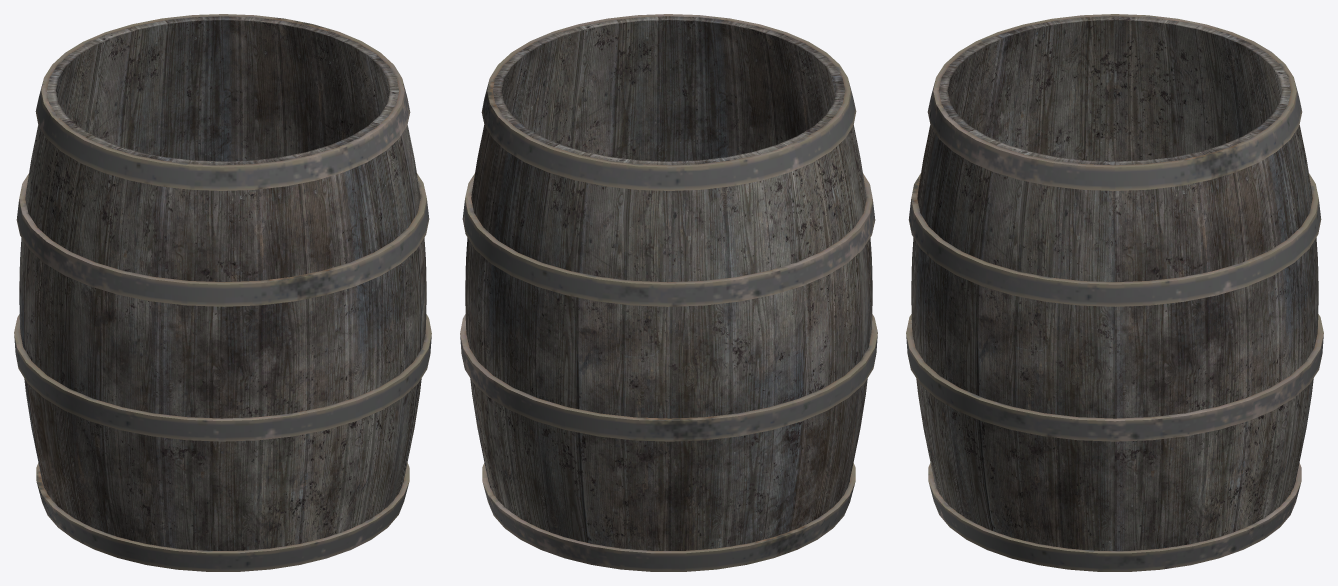
Rendered from SM_Barrel02.FBX.
The picture shows the model from 3 angles, left to right: view 1: azimuth 30°, elevation 25°; view 2: azimuth 150°, elevation 25°; view 3: azimuth 270°, elevation 25°; orthographic projection.
Visible parts, largest first — view 1: SM_Barrel02; view 2: SM_Barrel02; view 3: SM_Barrel02.
Boxes of the visible parts, x1,y1,x2,y2 form: SM_Barrel02: (14, 14, 431, 571); SM_Barrel02: (460, 14, 877, 571); SM_Barrel02: (906, 14, 1323, 571).
Bounding box in the file's own units: 140 × 150 × 140.
